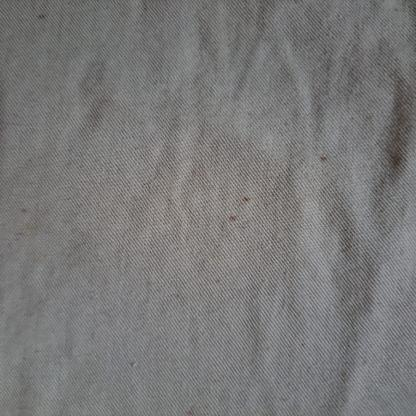spot: (21, 219, 46, 235), (28, 251, 50, 265), (388, 152, 406, 169), (241, 194, 261, 206), (34, 12, 56, 22), (316, 153, 337, 163), (224, 214, 242, 222), (184, 408, 198, 416), (18, 207, 31, 214)
